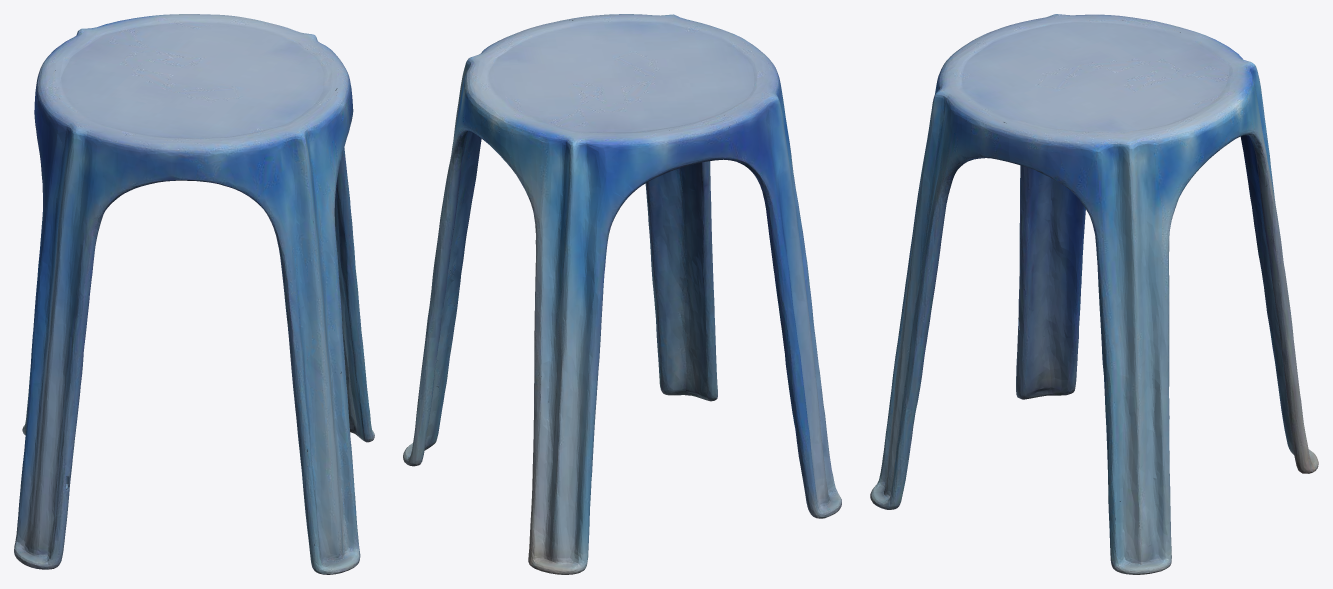
The model's file is blue_plastic_stool_on_the_left_000.glb.
3 views of the same model, side by side, from view 1: azimuth 30°, elevation 25°; view 2: azimuth 150°, elevation 25°; view 3: azimuth 270°, elevation 25° (orthographic). The views are drawn at different scales.
Parts seen in each view (by area): view 1: phase2_final_blue_plastic_stool_on_the_left_000.obj; view 2: phase2_final_blue_plastic_stool_on_the_left_000.obj; view 3: phase2_final_blue_plastic_stool_on_the_left_000.obj.
Part boxes in pixels (bbox=[...]): phase2_final_blue_plastic_stool_on_the_left_000.obj: bbox=[14, 14, 374, 574]; phase2_final_blue_plastic_stool_on_the_left_000.obj: bbox=[403, 14, 841, 574]; phase2_final_blue_plastic_stool_on_the_left_000.obj: bbox=[870, 14, 1318, 574].
Bounding box in the file's own units: 0.1786 × 0.1816 × 0.1808.
Materials: 1 (1 with a texture image).
